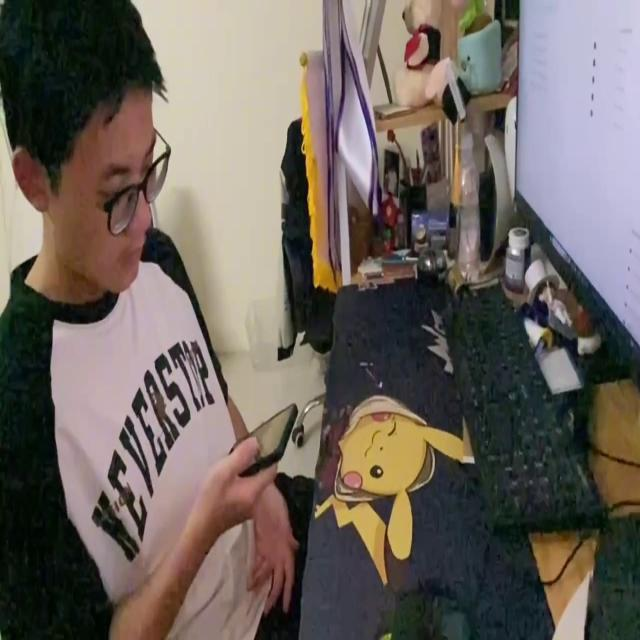laptop: (511, 0, 640, 387)
phone: (228, 399, 296, 472)
student: (0, 0, 304, 640)
